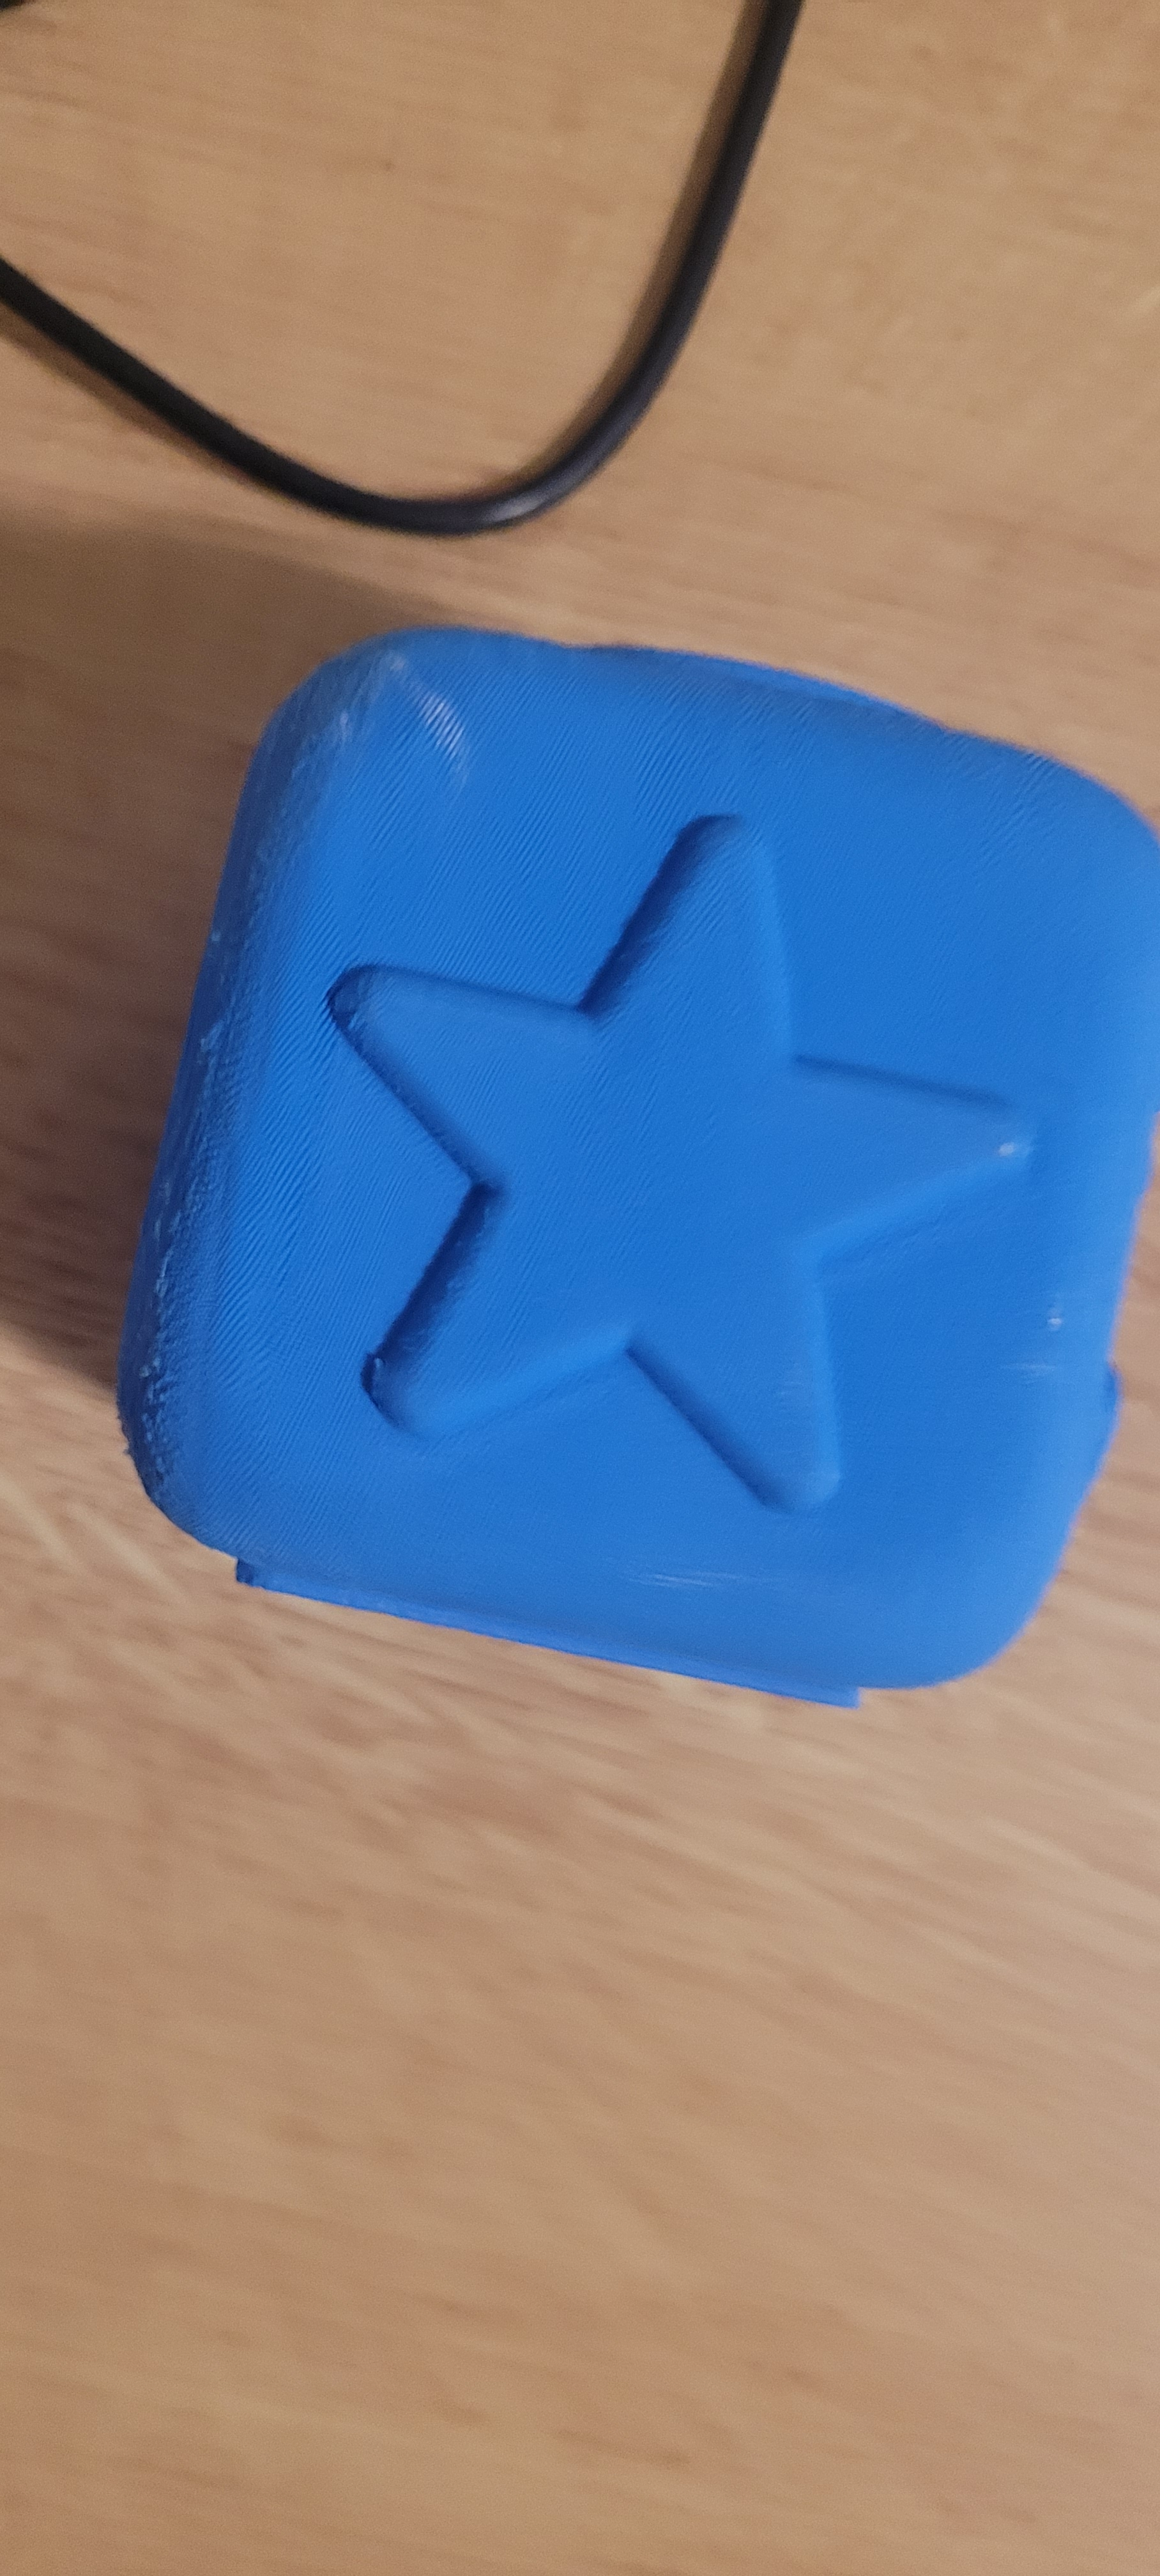Star: (258, 682, 1083, 1575)
